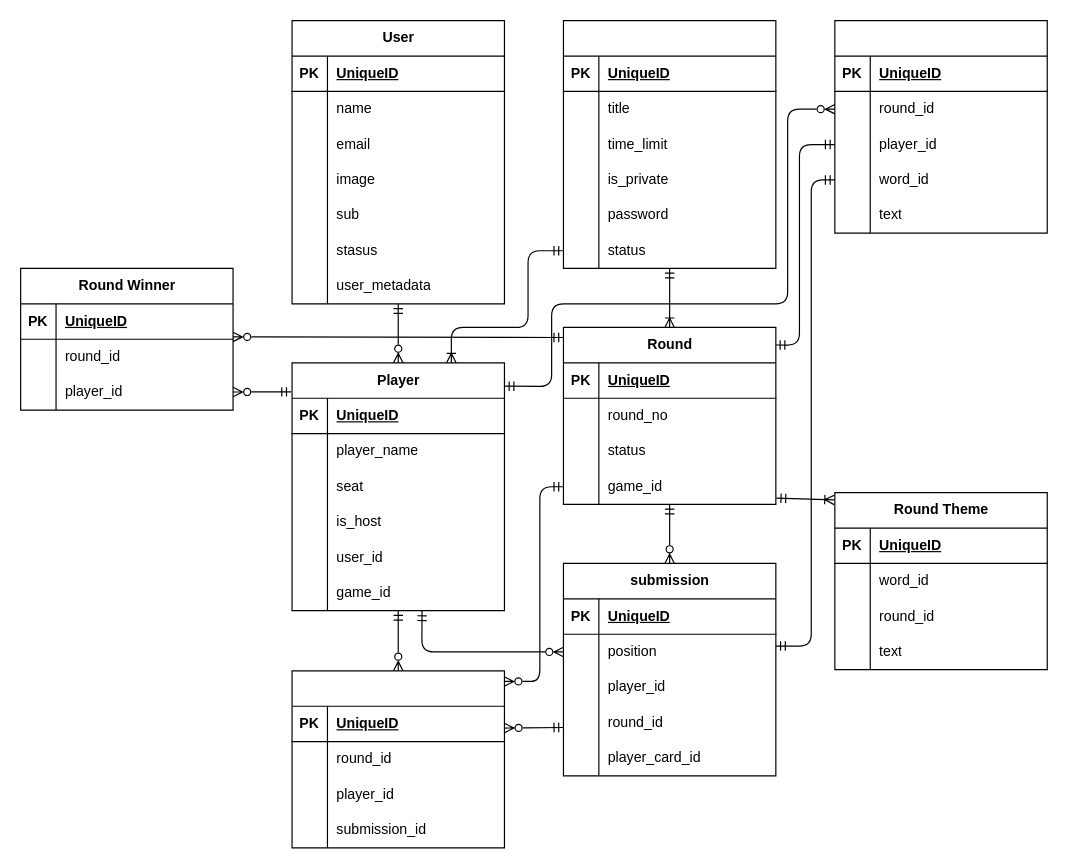
Some shapes in this 1068 by 868 pixel diagram are drawn without their labels. Each missing label, with the box of its shape:
Game: (562, 19, 776, 268)
Player Card: (834, 19, 1047, 233)
vote: (291, 670, 504, 848)
